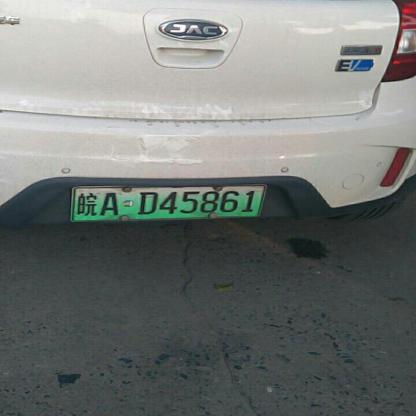lp: (72, 188, 263, 221)
